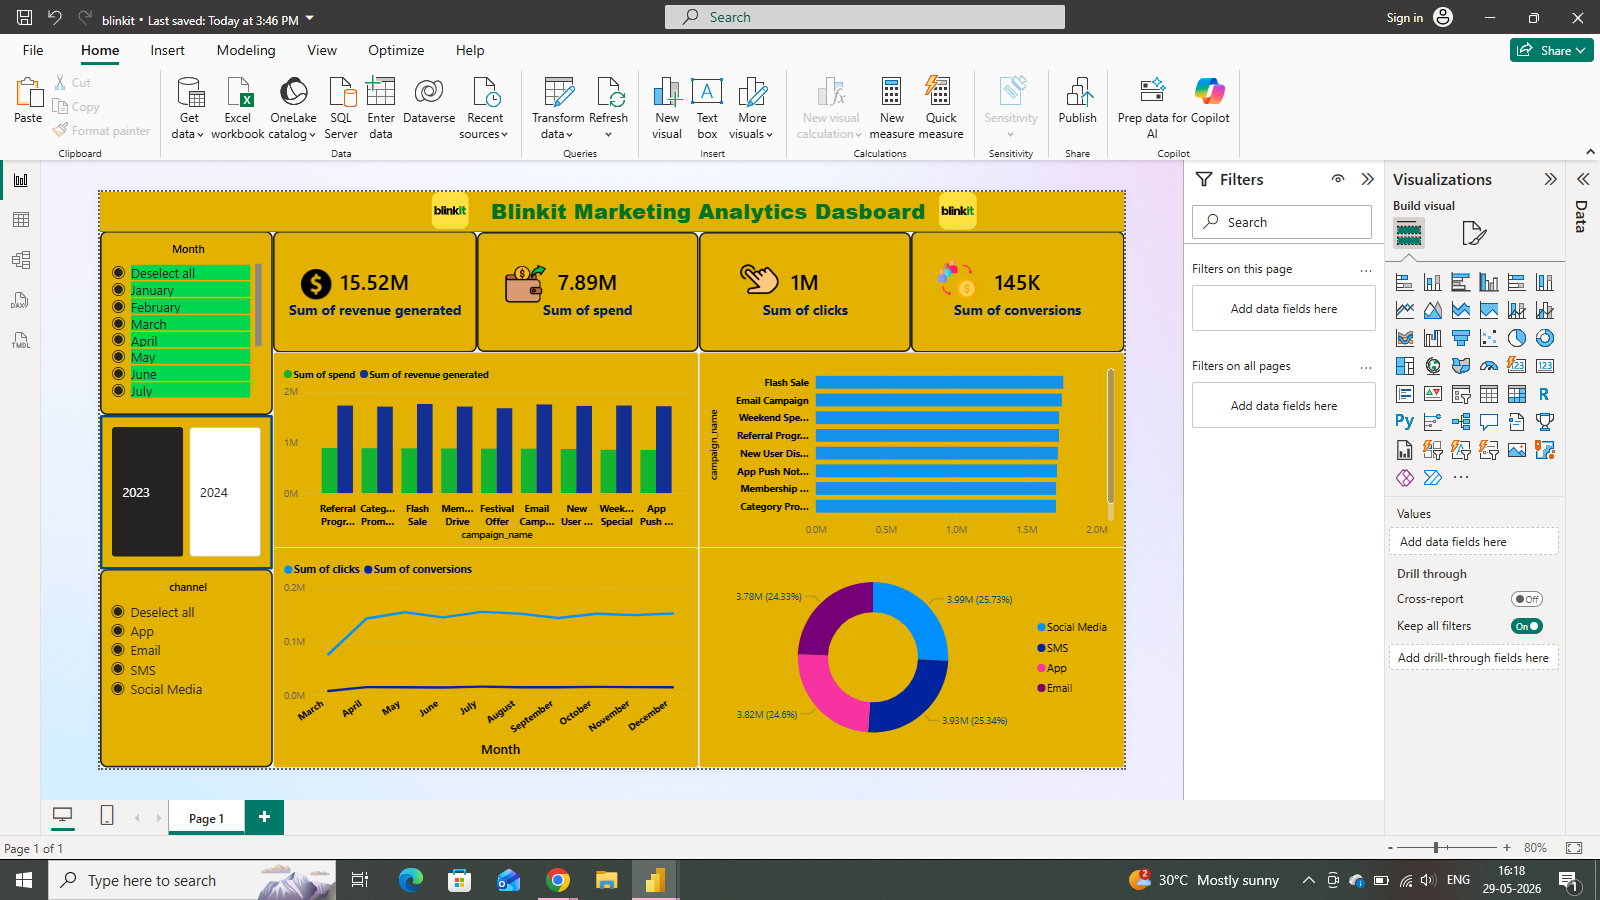

What the dashboard file says about the page in this screenshot:
{"tool":"powerbi","page":{"name":"Page 1","canvas":[1280,720],"ordinal":0},"visuals":[{"type":"card","fields":{"Values":["Sum(blinkit_marketing_performance.revenue_generated)"]},"box":[216.5,49,255.2,151.5],"z":0},{"type":"card","fields":{"Values":["Sum(blinkit_marketing_performance.spend)"]},"box":[471.6,50.1,276.8,150.4],"z":1000},{"type":"card","fields":{"Values":["Sum(blinkit_marketing_performance.clicks)"]},"box":[748.5,50.1,265.4,150.4],"z":2000},{"type":"card","fields":{"Values":["Sum(blinkit_marketing_performance.conversions)"]},"box":[1013.9,49,266.6,151.5],"z":3000},{"type":"clusteredBarChart","fields":{"Category":["blinkit_marketing_performance.campaign_name"],"Y":["Sum(blinkit_marketing_performance.revenue generated)"]},"box":[748.5,200.5,532,248.4],"z":4000},{"type":"clusteredColumnChart","fields":{"Category":["blinkit_marketing_performance.campaign_name"],"Y":["Sum(blinkit_marketing_performance.spend)","Sum(blinkit_marketing_performance.revenue generated)"]},"box":[216.5,200.5,532,248.4],"z":5000},{"type":"lineChart","fields":{"Y":["Sum(blinkit_marketing_performance.clicks)","Sum(blinkit_marketing_performance.conversions)"],"Category":["blinkit_marketing_performance.date.Variation.Date Hierarchy.Month"]},"box":[216.5,444.3,532,275.7],"z":6000},{"type":"donutChart","fields":{"Category":["blinkit_marketing_performance.channel"],"Y":["Sum(blinkit_marketing_performance.revenue generated)"]},"box":[748.5,444.3,532,275.7],"z":7000},{"type":"listSlicer","fields":{"Values":["blinkit_marketing_performance.channel"]},"box":[0,471.6,216.5,248.4],"z":8000},{"type":"listSlicer","fields":{"Values":["blinkit_marketing_performance.date.Variation.Date Hierarchy.Month"]},"box":[0,49,216.5,230.1],"z":9000},{"type":"advancedSlicerVisual","fields":{"Values":["blinkit_marketing_performance.date.Variation.Date Hierarchy.Year"]},"box":[0,279.1,216.5,192.5],"z":10000},{"type":"shape","box":[0,0,1280.5,50.1],"z":11000},{"type":"textbox","box":[0,0,1280.5,49],"z":12000},{"type":"image","box":[231.3,95.7,77.5,37.6],"z":13000},{"type":"image","box":[504.7,46.7,53.5,136.7],"z":14000},{"type":"image","box":[781.5,85.4,86.6,47.8],"z":15000},{"type":"image","box":[1047,83.2,49,50.1],"z":16000},{"type":"image","box":[308.8,0,257.5,46.2],"z":17000},{"type":"image","box":[943.3,0,257.5,46.7],"z":18000}]}

Visuals, with their boxes on the page's 1280x720 design canvas (x1, y1, x2, y2). These are canvas units, not pixel positions in the 1600x900 screenshot, which may show the page scaled, cropped or inside an application window:
card - Sum(blinkit_marketing_performance.revenue_generated): left=216, top=49, right=472, bottom=200
card - Sum(blinkit_marketing_performance.spend): left=472, top=50, right=748, bottom=200
card - Sum(blinkit_marketing_performance.clicks): left=748, top=50, right=1014, bottom=200
card - Sum(blinkit_marketing_performance.conversions): left=1014, top=49, right=1280, bottom=200
clusteredBarChart - blinkit_marketing_performance.campaign_name x Sum(blinkit_marketing_performance.revenue generated): left=748, top=200, right=1280, bottom=449
clusteredColumnChart - blinkit_marketing_performance.campaign_name x Sum(blinkit_marketing_performance.spend): left=216, top=200, right=748, bottom=449
lineChart - Sum(blinkit_marketing_performance.clicks) x Sum(blinkit_marketing_performance.conversions): left=216, top=444, right=748, bottom=720
donutChart - blinkit_marketing_performance.channel x Sum(blinkit_marketing_performance.revenue generated): left=748, top=444, right=1280, bottom=720
listSlicer - blinkit_marketing_performance.channel: left=0, top=472, right=216, bottom=720
listSlicer - blinkit_marketing_performance.date.Variation.Date Hierarchy.Month: left=0, top=49, right=216, bottom=279
advancedSlicerVisual - blinkit_marketing_performance.date.Variation.Date Hierarchy.Year: left=0, top=279, right=216, bottom=472
shape: left=0, top=0, right=1280, bottom=50
textbox: left=0, top=0, right=1280, bottom=49
image: left=231, top=96, right=309, bottom=133
image: left=505, top=47, right=558, bottom=183
image: left=782, top=85, right=868, bottom=133
image: left=1047, top=83, right=1096, bottom=133
image: left=309, top=0, right=566, bottom=46
image: left=943, top=0, right=1201, bottom=47
